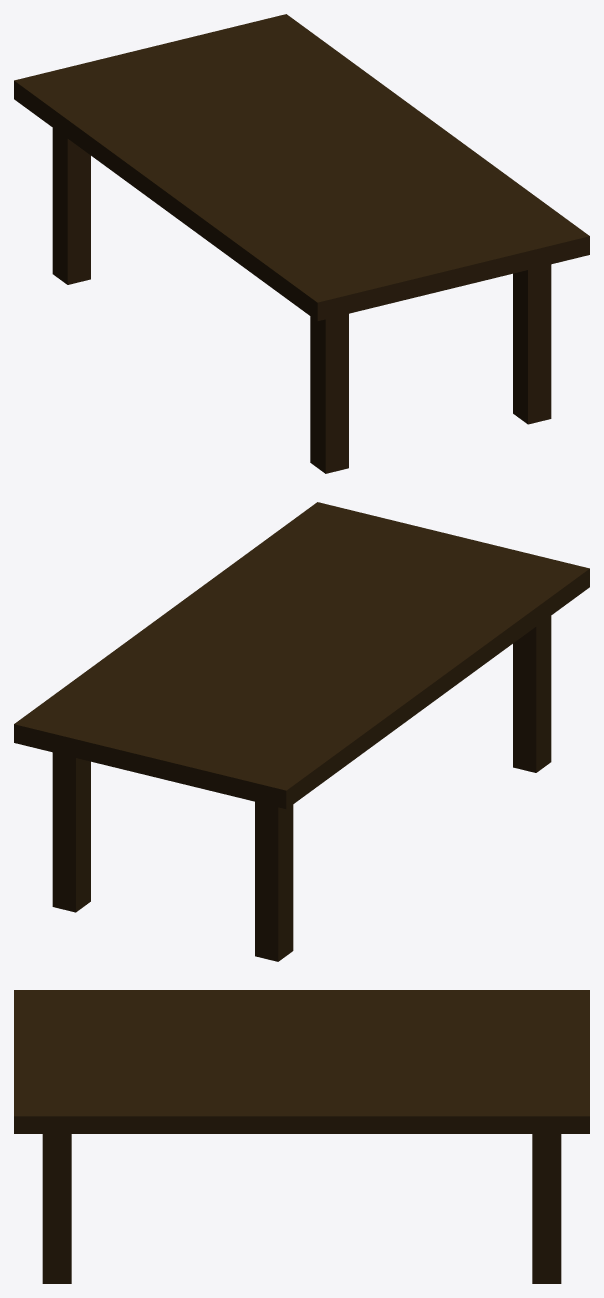
File: Table.fbx
The picture shows the model from 3 angles, top to bottom: view 1: azimuth 30°, elevation 25°; view 2: azimuth 150°, elevation 25°; view 3: azimuth 270°, elevation 25°; orthographic projection. The views are drawn at different scales.
Parts seen in each view (by area): view 1: Table; view 2: Table; view 3: Table.
Part boxes in pixels (x1,y1,x2,y2): Table: [14, 14, 589, 473]; Table: [14, 502, 589, 961]; Table: [14, 990, 589, 1283].
Size of the model in its own units: 137 by 90.17 by 264.
